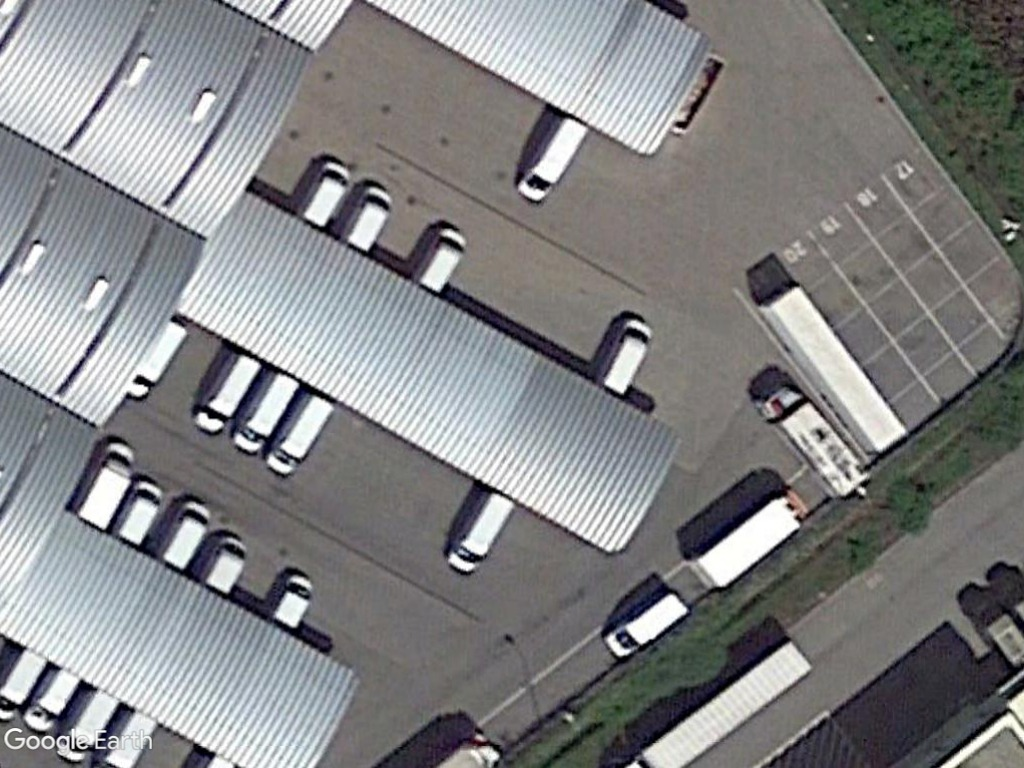longvehicle: (759, 275, 907, 460), (637, 638, 814, 768)
truck: (754, 380, 868, 504), (684, 482, 818, 585)
van: (509, 118, 596, 204), (442, 490, 518, 578), (265, 390, 340, 477), (230, 369, 303, 458), (602, 590, 689, 662), (72, 441, 141, 530), (190, 354, 263, 438), (595, 316, 659, 395), (154, 498, 218, 574), (296, 158, 357, 233), (412, 225, 473, 296), (341, 183, 400, 253)
